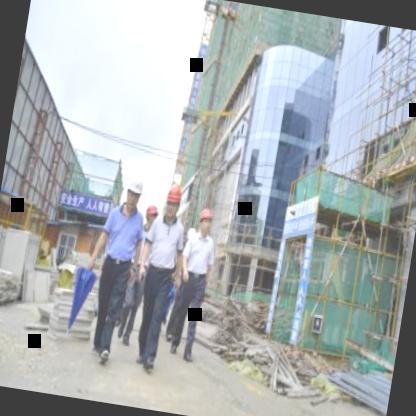helmet: (161, 180, 186, 226), (122, 173, 145, 212), (194, 205, 214, 238), (141, 202, 160, 229)
